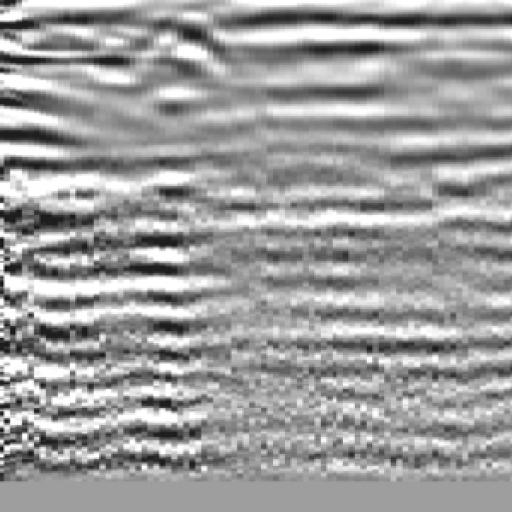non-metallic: (4, 47, 77, 391)
